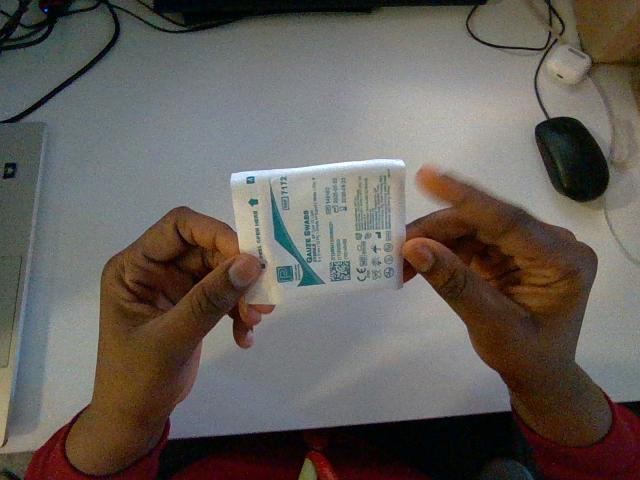gauze: (231, 159, 405, 303)
